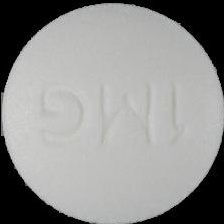64725-0513: (0, 0, 224, 224)
